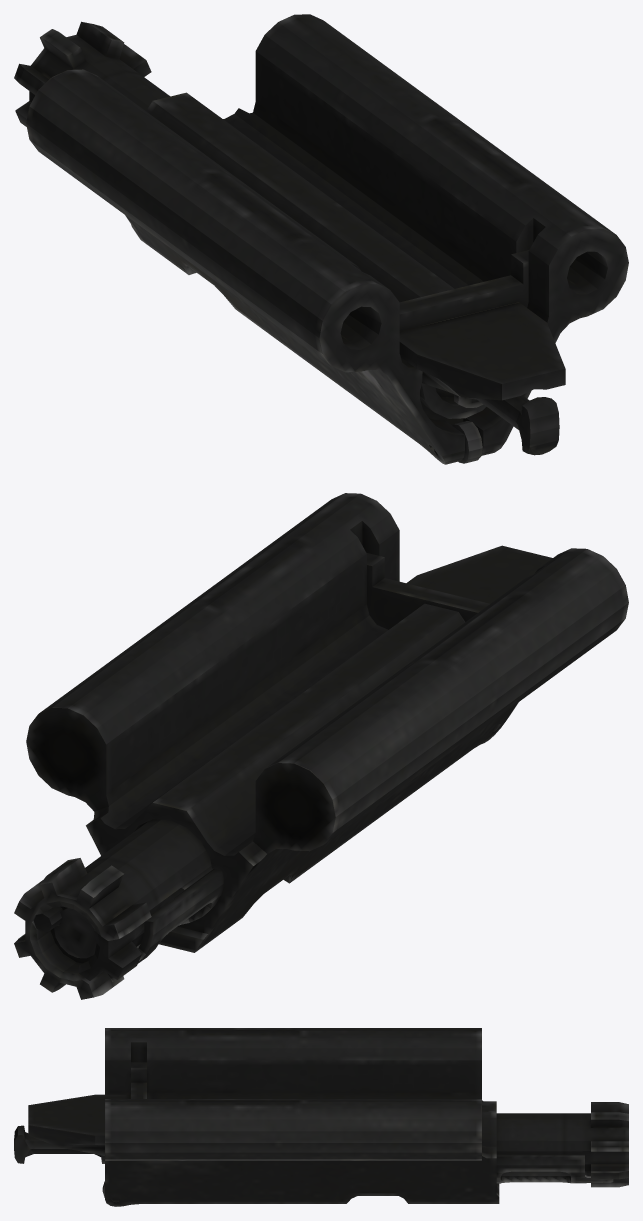
The picture shows the model from 3 angles, top to bottom: view 1: azimuth 30°, elevation 25°; view 2: azimuth 150°, elevation 25°; view 3: azimuth 270°, elevation 25°; orthographic projection. The views are drawn at different scales.
Visible parts, largest first — view 1: TW_6718817435e3cfd9550d2c27_PZ_Import; view 2: TW_6718817435e3cfd9550d2c27_PZ_Import; view 3: TW_6718817435e3cfd9550d2c27_PZ_Import.
Boxes of the visible parts, x1,y1,x2,y2 form: TW_6718817435e3cfd9550d2c27_PZ_Import: [14, 14, 628, 464]; TW_6718817435e3cfd9550d2c27_PZ_Import: [14, 493, 628, 999]; TW_6718817435e3cfd9550d2c27_PZ_Import: [14, 1028, 628, 1206].
Size of the model in its own units: 0.0292 by 0.0781 by 0.0189.
1 material, 1 textured.
